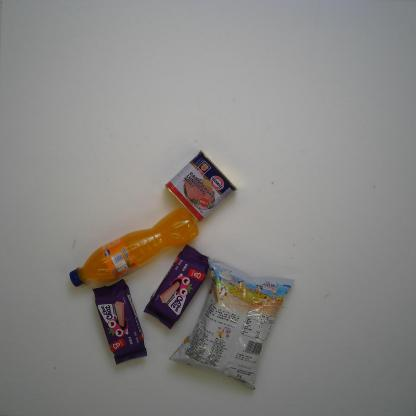Canned Food: (163, 148, 238, 225)
Dessert: (140, 244, 217, 330), (91, 279, 148, 366)
Drink: (67, 206, 200, 287)
Puffed Food: (166, 256, 298, 392)
